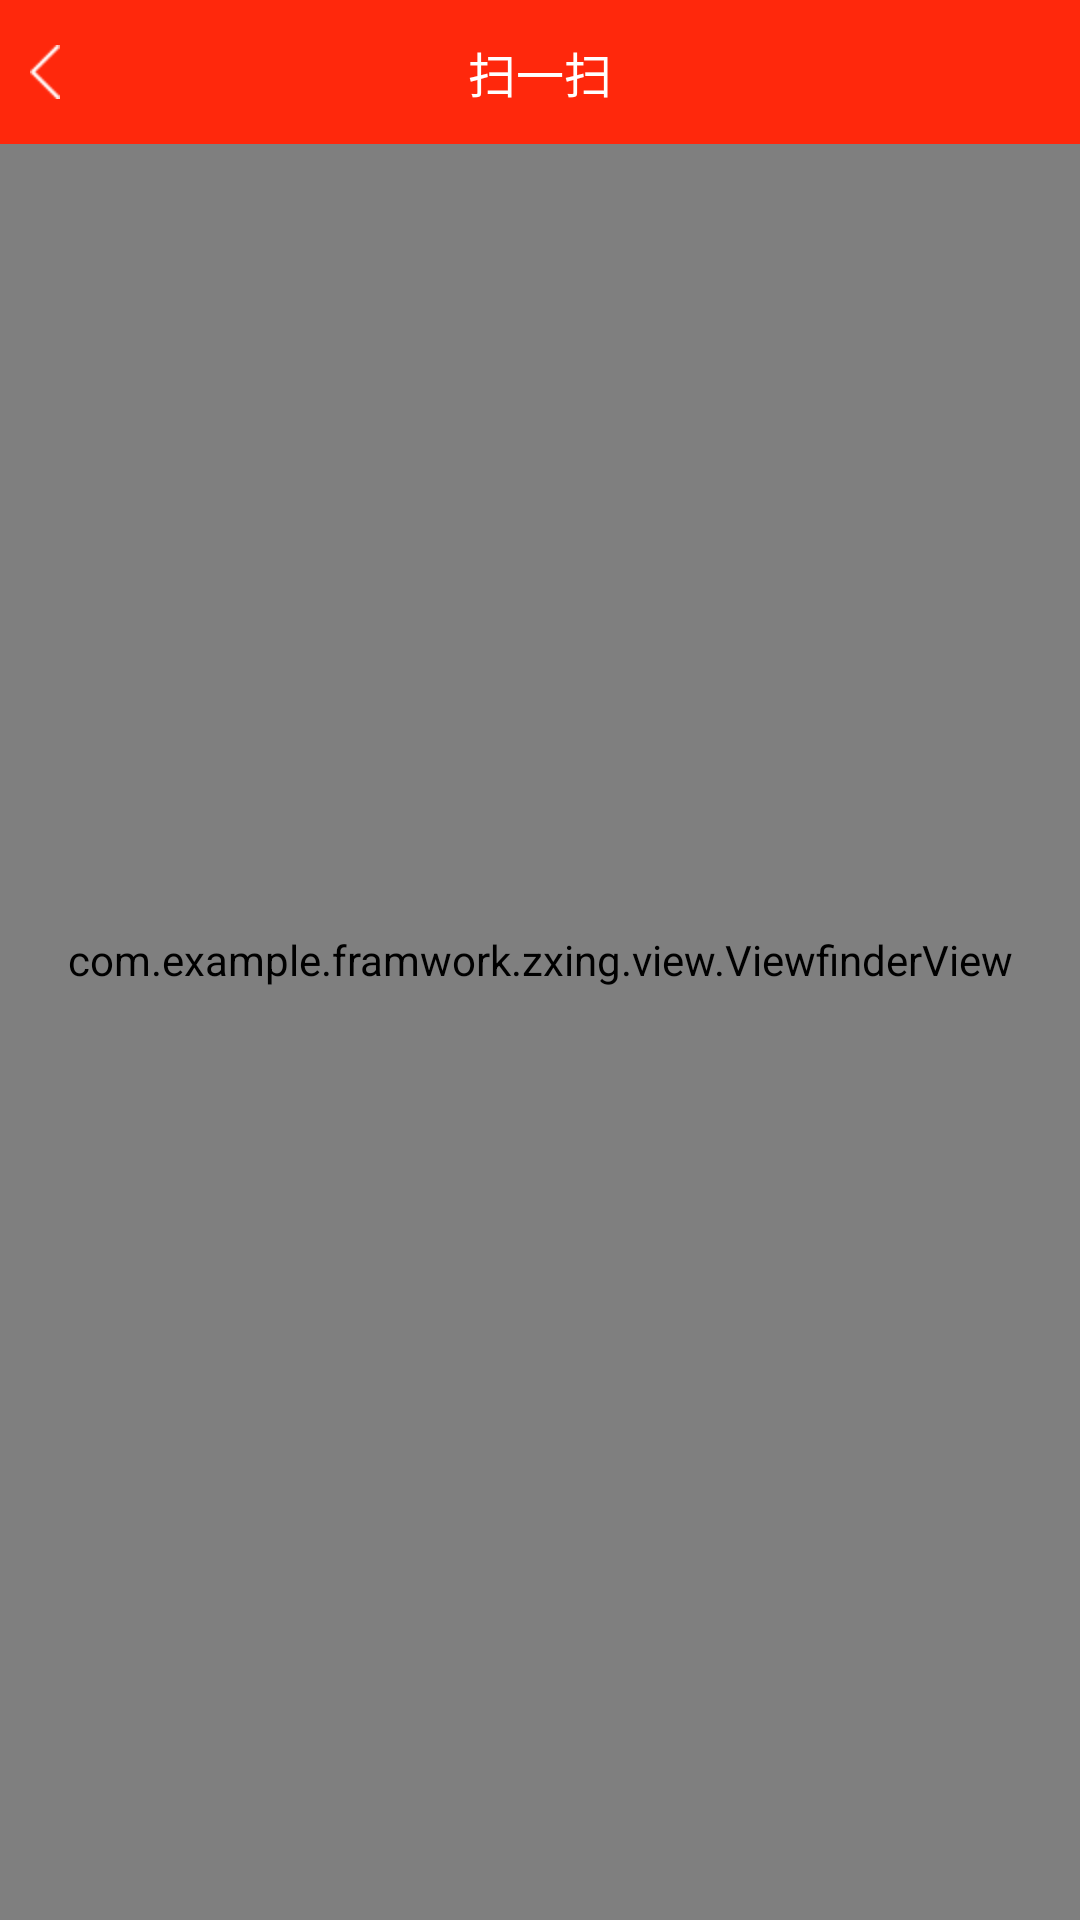

Where icons sit on this 1080px×1920px app screen, as (x1, y1, x2, y2):
back: (30, 45, 60, 99)
